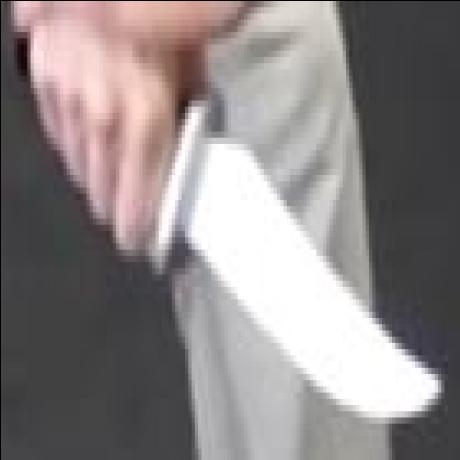weapon: (179, 109, 437, 433)
